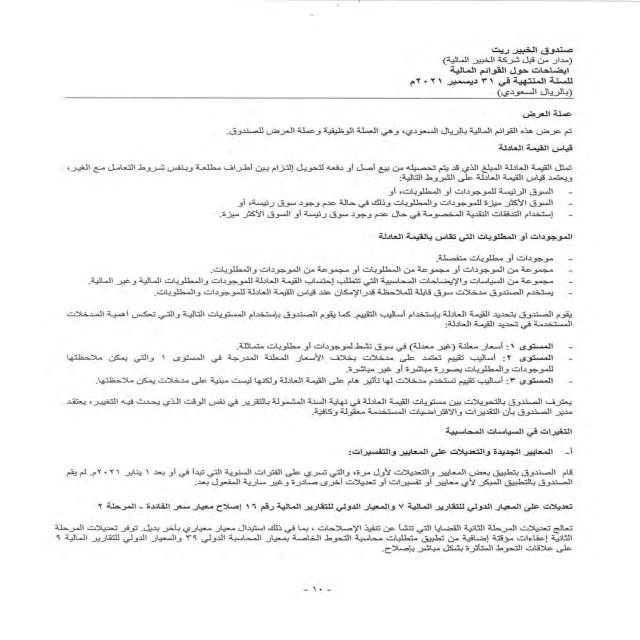notes: (439, 64, 572, 78)
text: (22, 105, 582, 578)
